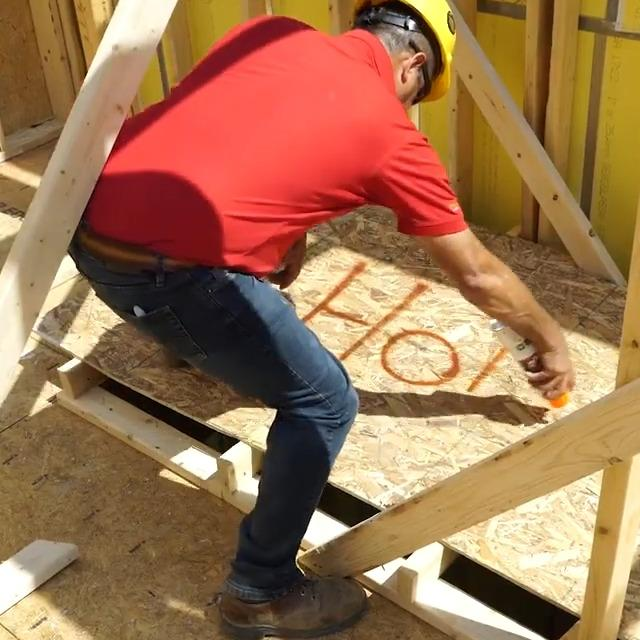Hardhat: (356, 0, 459, 102)
NO-Safety Vest: (88, 14, 402, 271)
Person: (67, 0, 573, 640)
